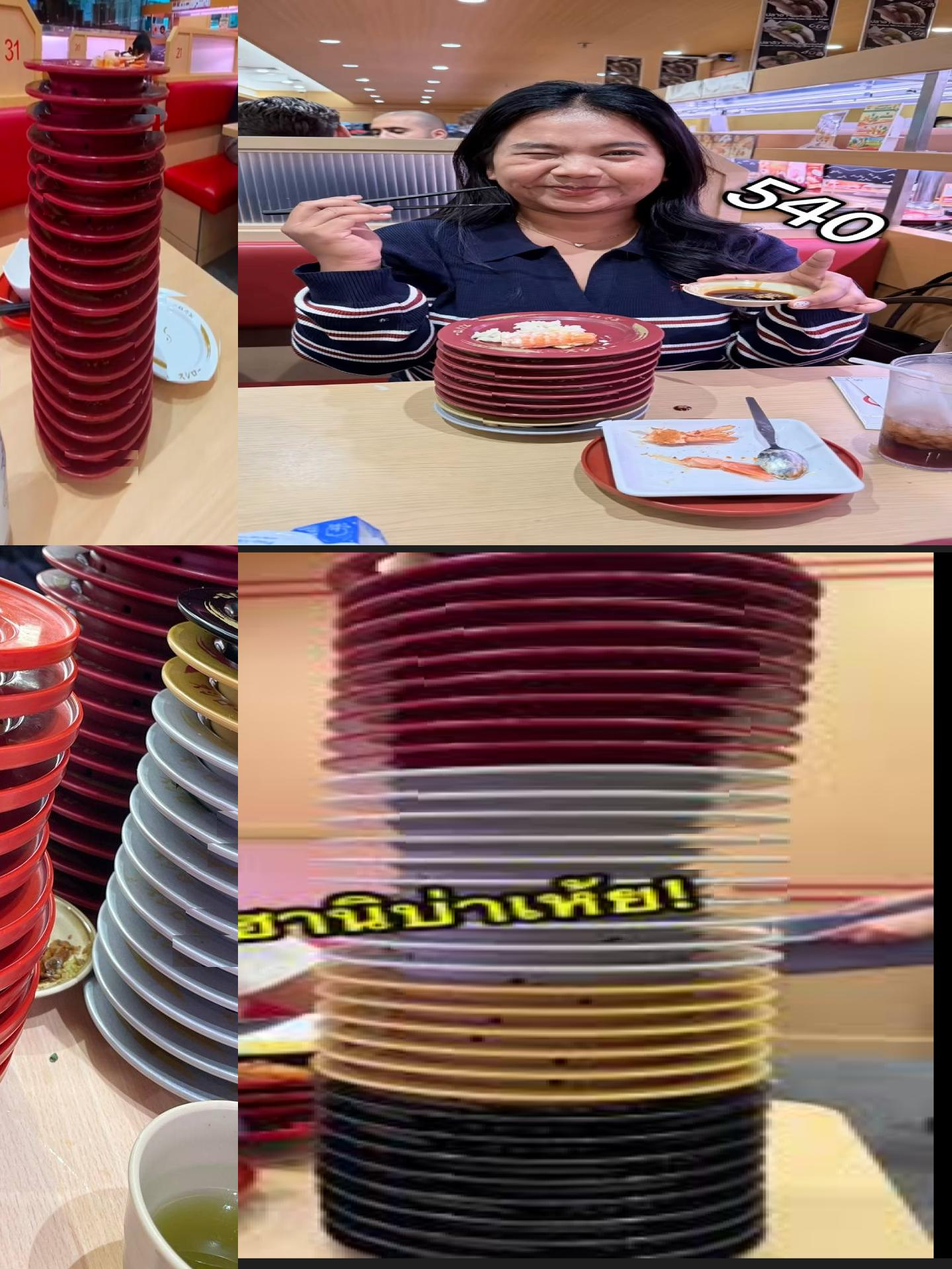Janback: (238, 595, 496, 620), (238, 644, 516, 666), (238, 681, 539, 697), (238, 667, 538, 683), (238, 566, 531, 581), (238, 625, 500, 641), (238, 586, 495, 600), (238, 700, 520, 711), (238, 580, 491, 588)
Jangold: (239, 418, 381, 427), (198, 675, 238, 697), (222, 720, 238, 744)
Janred: (238, 319, 447, 352), (22, 52, 179, 81), (82, 563, 184, 604), (33, 163, 164, 191), (38, 261, 145, 293), (37, 138, 165, 163), (32, 87, 170, 110), (39, 193, 160, 217), (84, 612, 160, 649), (42, 221, 155, 245), (48, 312, 146, 339), (31, 114, 167, 132), (84, 672, 153, 706), (52, 341, 139, 362), (53, 466, 142, 485), (56, 297, 146, 315), (52, 251, 146, 268), (238, 356, 383, 367), (88, 735, 143, 763), (69, 789, 125, 816), (64, 830, 111, 860), (252, 369, 368, 381), (90, 701, 140, 728), (97, 651, 158, 672), (65, 407, 132, 426), (78, 765, 125, 792), (66, 389, 145, 405), (250, 392, 385, 400), (63, 369, 132, 384), (59, 450, 145, 461), (66, 864, 102, 890), (60, 431, 135, 443), (248, 384, 366, 390), (264, 403, 381, 408), (257, 413, 371, 418)
Janwhite: (119, 965, 238, 1042), (163, 290, 223, 387), (156, 724, 191, 853), (128, 1050, 200, 1096), (166, 933, 238, 969), (186, 866, 238, 907), (182, 907, 238, 937), (238, 427, 367, 438), (203, 842, 238, 876), (210, 1057, 238, 1087), (213, 810, 238, 839), (218, 777, 238, 808)
